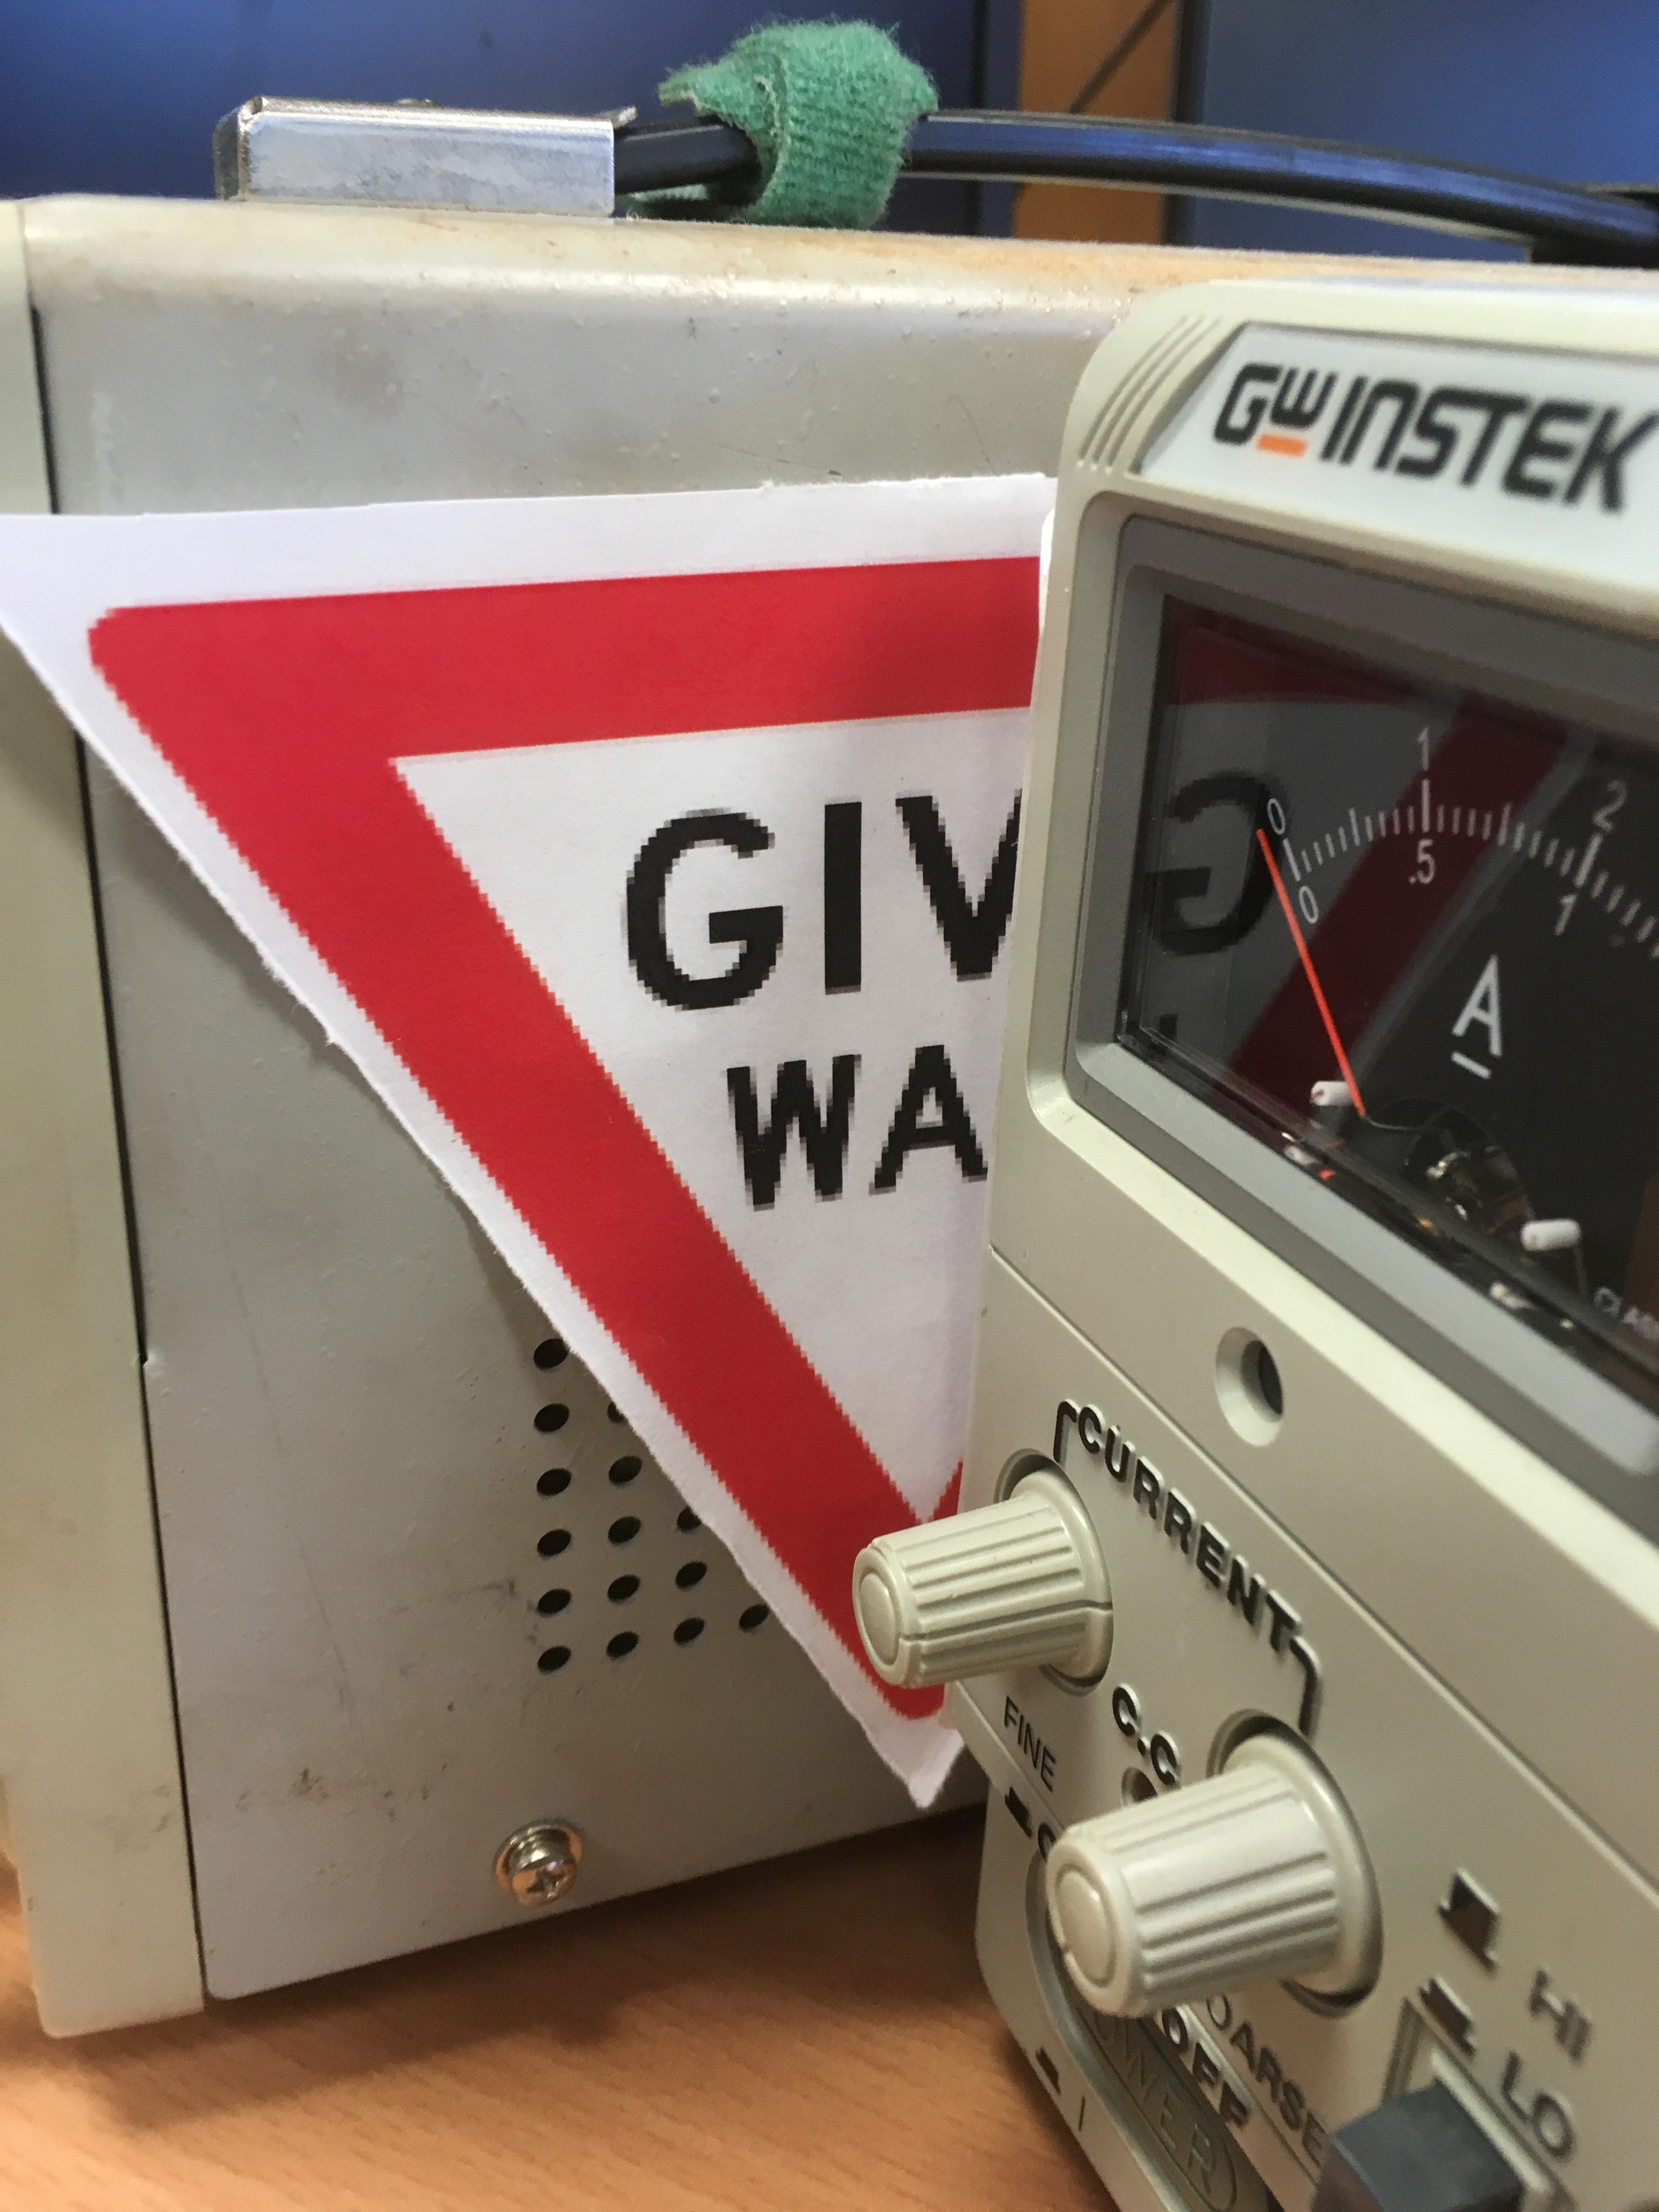giveway: (84, 608, 1046, 1676), (528, 524, 1117, 1791), (166, 617, 988, 1183)
